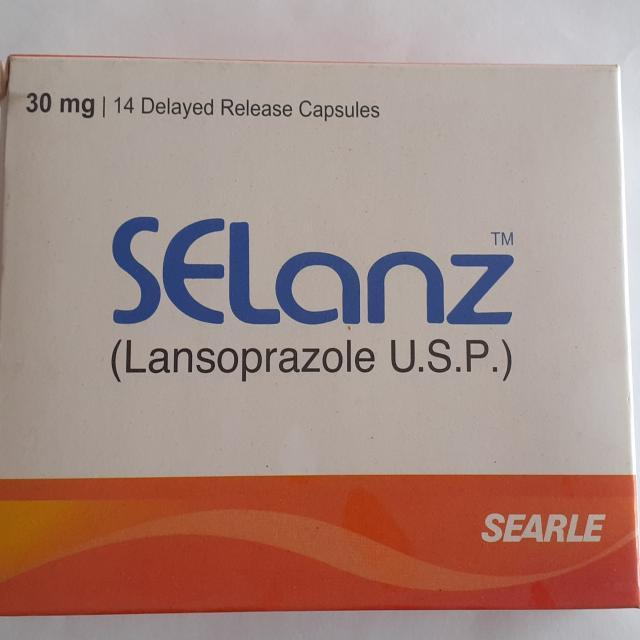drug-name: (106, 210, 520, 328)
